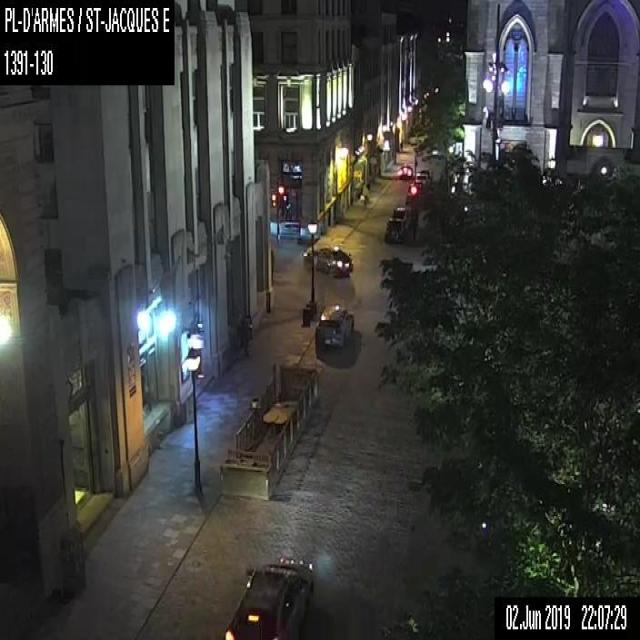vehicle: (222, 556, 313, 639), (313, 304, 355, 352), (302, 244, 354, 277), (384, 217, 404, 243), (405, 183, 421, 205), (392, 205, 408, 221), (414, 172, 430, 186), (396, 165, 413, 178), (419, 167, 432, 181)
